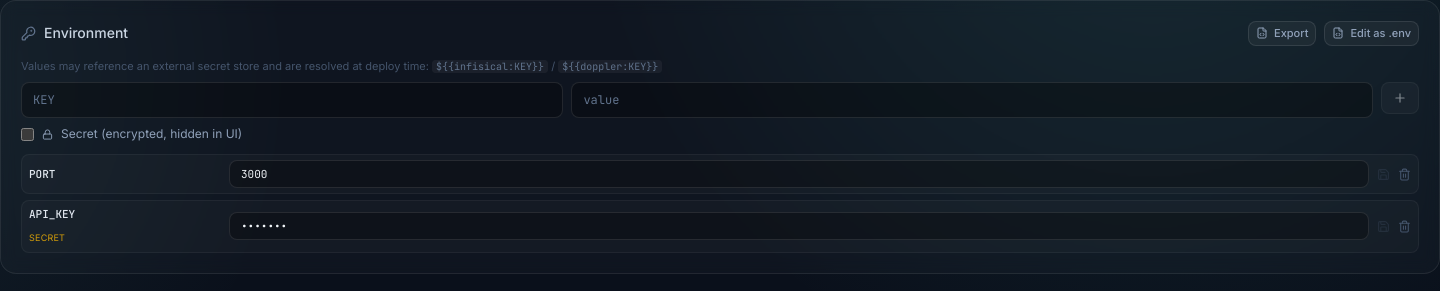
Test case: EnvCard › treats a cleared draft as a real edit (value can be blanked)
Expected: the text "PORT" is shown, [29, 167, 55, 181]
Clear the field showing "3000": [799, 174] box [229, 160, 1369, 188]
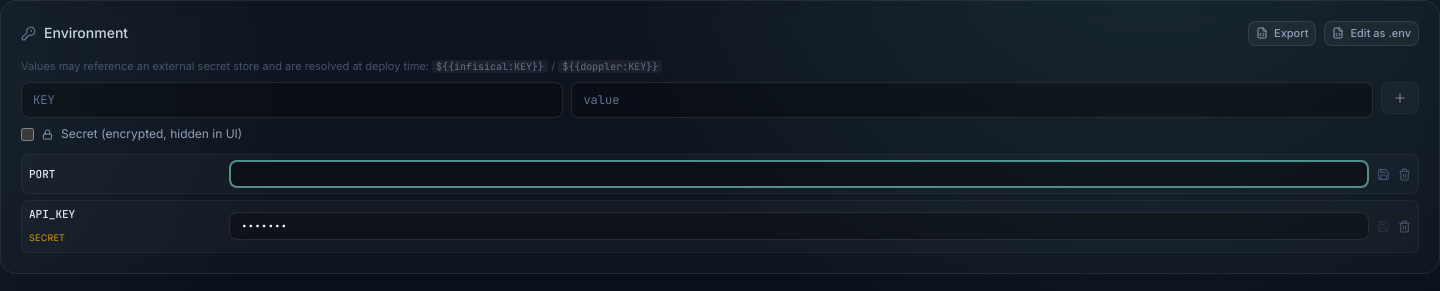
Expected: the 1st button titled "Save" is enabled, [1377, 168, 1390, 180]
